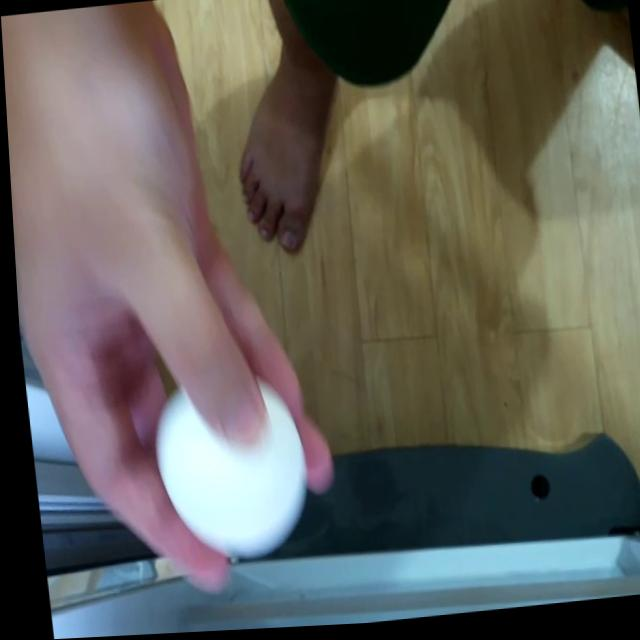egg: (135, 356, 316, 572)
